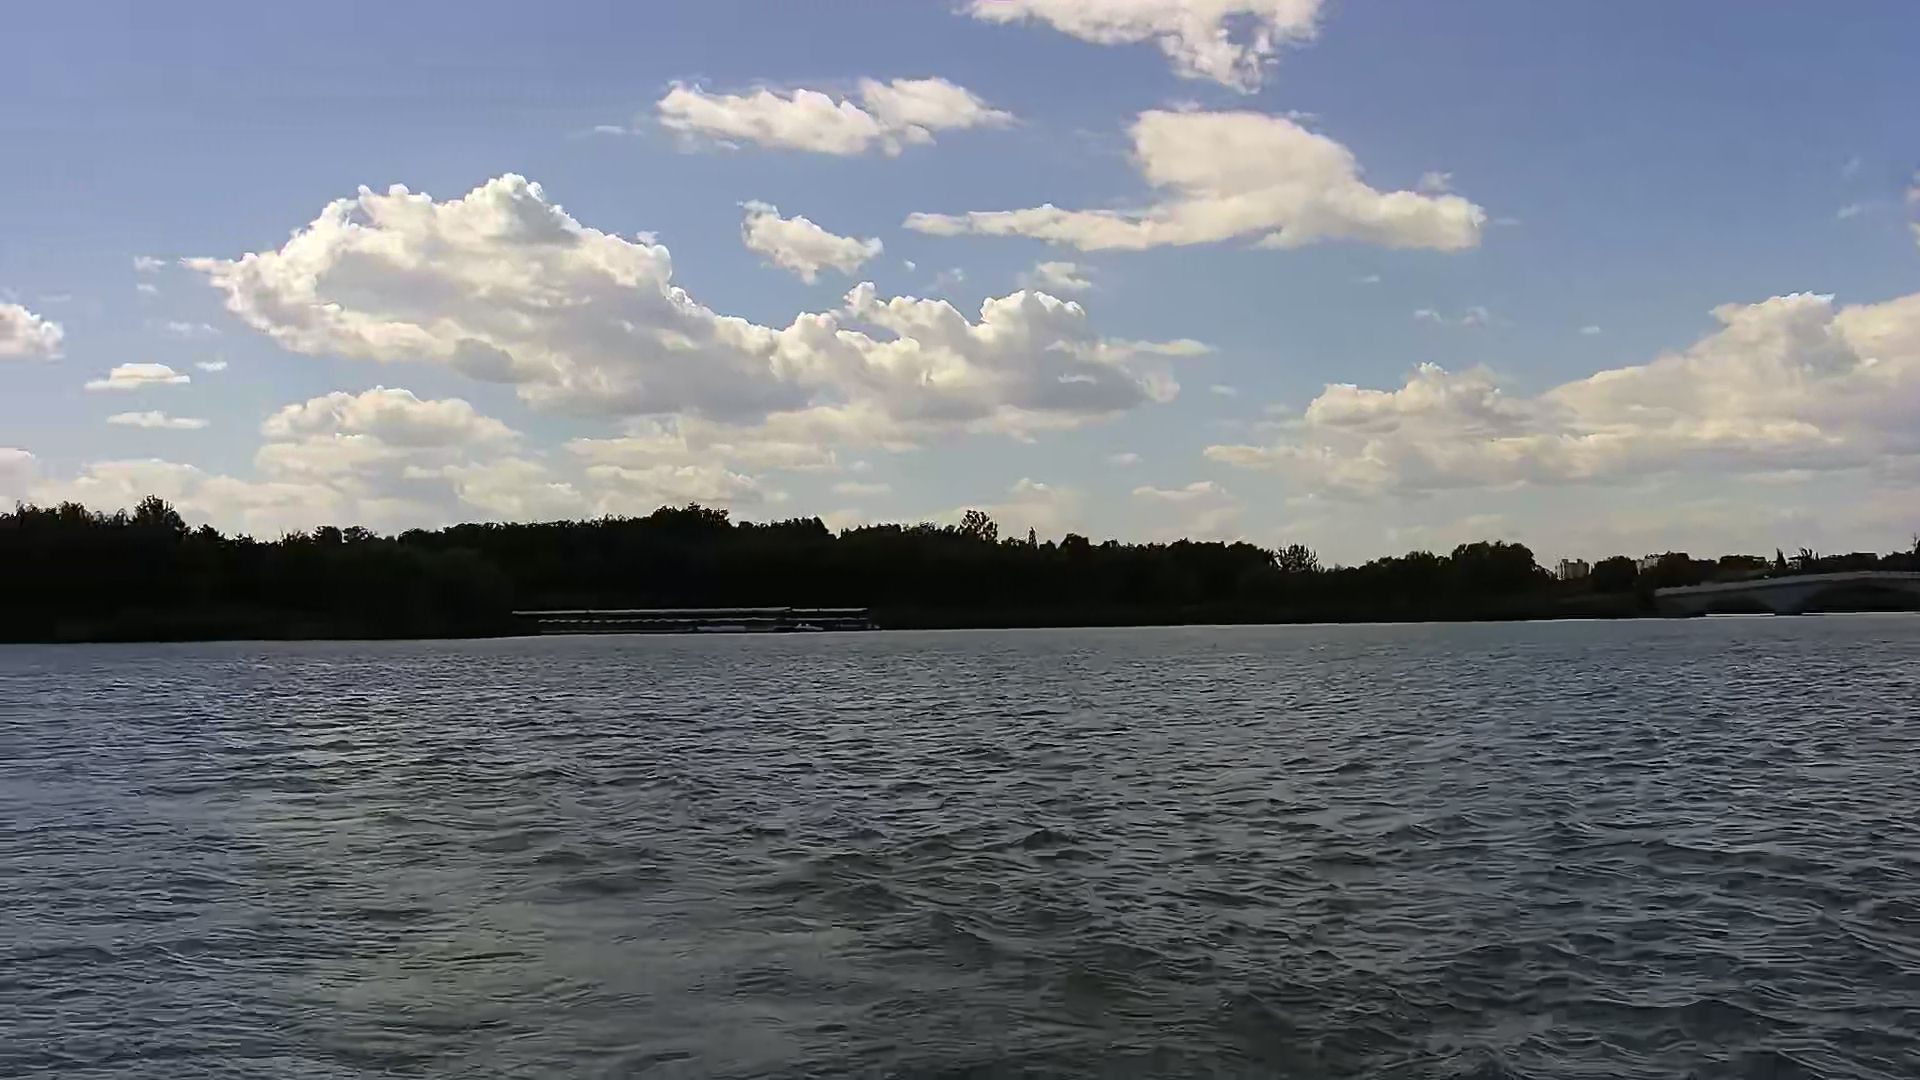bridge: (1654, 558, 1920, 618)
